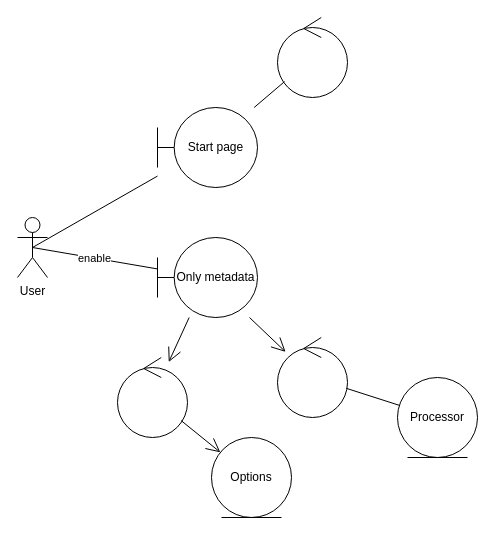
The diagram is 495 pixels wide and 535 high, and some of its shapes have lost their labels. Here are the shapes that lost their labels. From the top down, the box of each, then its label:
(276, 16, 348, 98): Show start page
(116, 356, 188, 438): set dryRun option
(276, 336, 348, 418): Adapt processor
